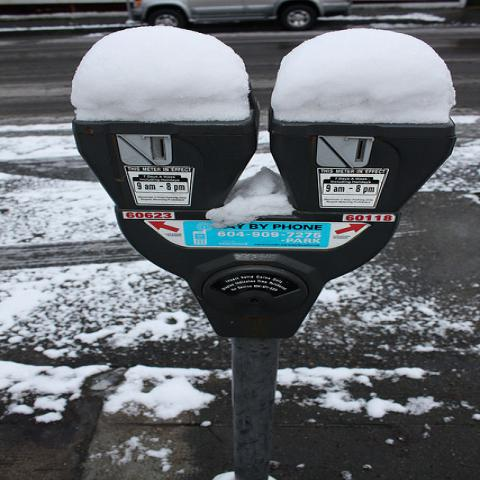car: (131, 0, 365, 34)
